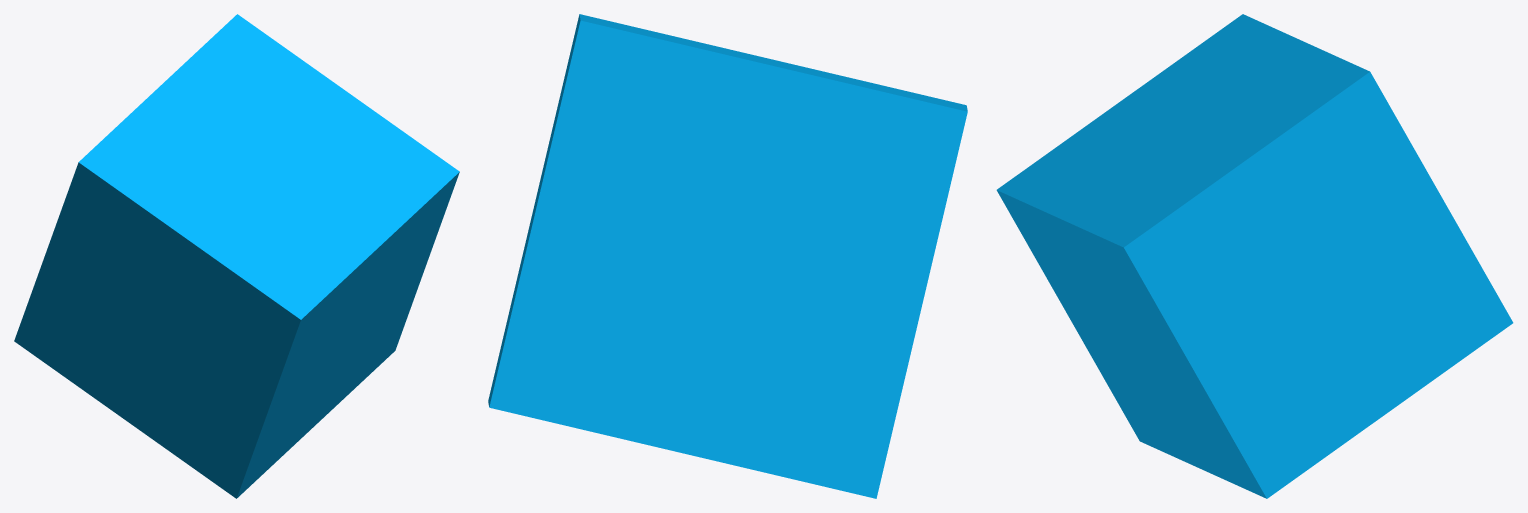
File: cubo_sellado.glb
3 views of the same model, side by side, from view 1: azimuth 30°, elevation 25°; view 2: azimuth 150°, elevation 25°; view 3: azimuth 270°, elevation 25° (orthographic). The views are drawn at different scales.
Bounding box in the file's own units: 1.35 × 1.51 × 1.66.
